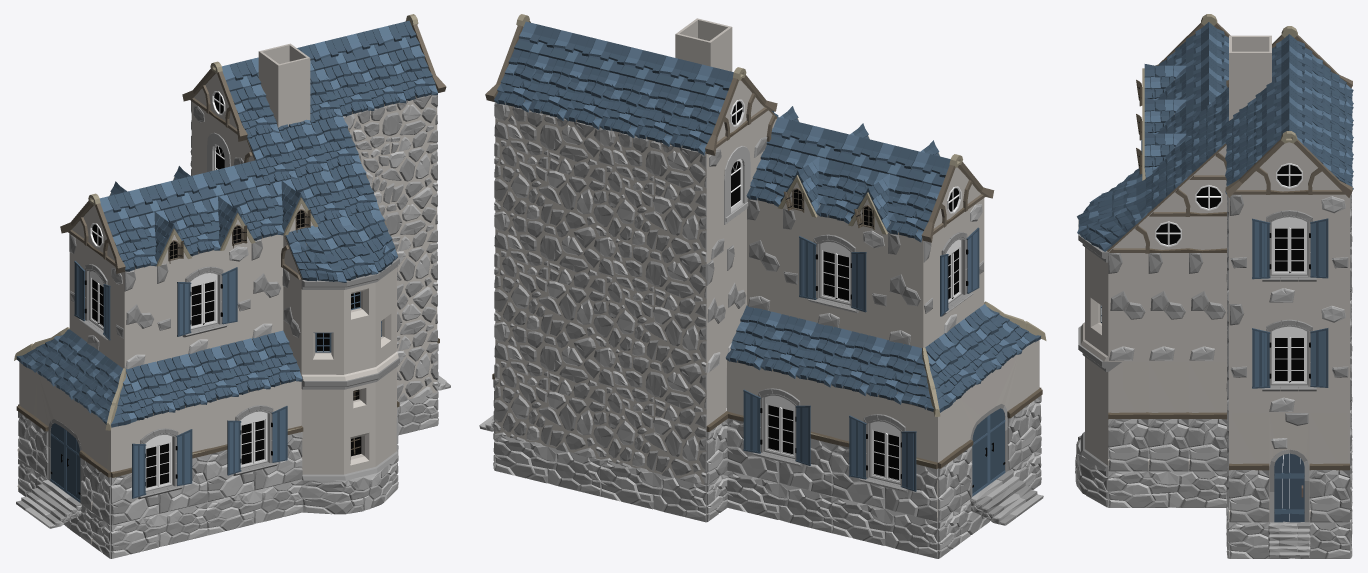
File: house_17.fbx
The picture shows the model from 3 angles, left to right: view 1: azimuth 30°, elevation 25°; view 2: azimuth 150°, elevation 25°; view 3: azimuth 270°, elevation 25°; orthographic projection. The views are drawn at different scales.
Parts seen in each view (by area): view 1: BALKON_03_2, WINDOW_06_3, BALKON_04_2, WINDOW_06_2, WINDOW_05_3, WALL_02_4, ROOF_base_round_2, DOOR_05_3, WINDOW_05_4, WALL_02_3, WALL_02_2, FOUNDATION_01_3 (+56 smaller); view 2: WALL_02_8, WALL_02_10, WALL_02_9, WALL_02_7, WALL_02_5, WALL_02_6, WINDOW_06_5, WINDOW_06_4, WINDOW_05_5, DOOR_05_3, WINDOW_05_4, WINDOW_07_2 (+53 smaller); view 3: WINDOW_05_6, WINDOW_05_7, WALL_04_22, DOOR_02_2, WALL_03_9, WALL_03_8, FOUNDATION_01_11, WALL_04_25, WALL_04_26, WALL_04_23, WALL_03_10, WALL_04_21 (+59 smaller).
Part boxes in pixels (bbox=[...]): BALKON_03_2: bbox=[301, 358, 399, 480]; WINDOW_06_3: bbox=[206, 381, 303, 502]; BALKON_04_2: bbox=[301, 257, 399, 380]; WINDOW_06_2: bbox=[110, 404, 207, 525]; WINDOW_05_3: bbox=[156, 243, 251, 361]; WALL_02_4: bbox=[343, 95, 437, 207]; ROOF_base_round_2: bbox=[284, 210, 397, 282]; DOOR_05_3: bbox=[35, 374, 92, 511]; WINDOW_05_4: bbox=[69, 233, 124, 368]; WALL_02_3: bbox=[379, 193, 437, 302]; WALL_02_2: bbox=[397, 293, 437, 402]; FOUNDATION_01_3: bbox=[111, 502, 207, 558]; WALL_02_8: bbox=[600, 349, 707, 484]; WALL_02_10: bbox=[600, 128, 706, 263]; WALL_02_9: bbox=[600, 239, 706, 374]; WALL_02_7: bbox=[494, 102, 600, 238]; WALL_02_5: bbox=[494, 323, 600, 459]; WALL_02_6: bbox=[494, 213, 600, 348]; WINDOW_06_5: bbox=[830, 386, 939, 521]; WINDOW_06_4: bbox=[726, 360, 832, 495]; WINDOW_05_5: bbox=[782, 208, 887, 340]; DOOR_05_3: bbox=[958, 354, 1022, 506]; WINDOW_05_4: bbox=[921, 198, 984, 347]; WINDOW_07_2: bbox=[704, 111, 767, 264]; WINDOW_05_6: bbox=[1229, 303, 1349, 412]; WINDOW_05_7: bbox=[1229, 194, 1349, 303]; WALL_04_22: bbox=[1148, 361, 1188, 471]; DOOR_02_2: bbox=[1269, 413, 1309, 522]; WALL_03_9: bbox=[1148, 253, 1188, 361]; WALL_03_8: bbox=[1108, 252, 1148, 361]; FOUNDATION_01_11: bbox=[1108, 470, 1226, 507]; WALL_04_25: bbox=[1229, 413, 1269, 522]; WALL_04_26: bbox=[1309, 413, 1349, 522]; WALL_04_23: bbox=[1188, 361, 1227, 471]; WALL_03_10: bbox=[1188, 253, 1226, 361]; WALL_04_21: bbox=[1108, 361, 1148, 471].
Size of the model in its own units: 1408 by 1200 by 693.
